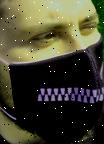with_mask: (2, 1, 104, 144)
